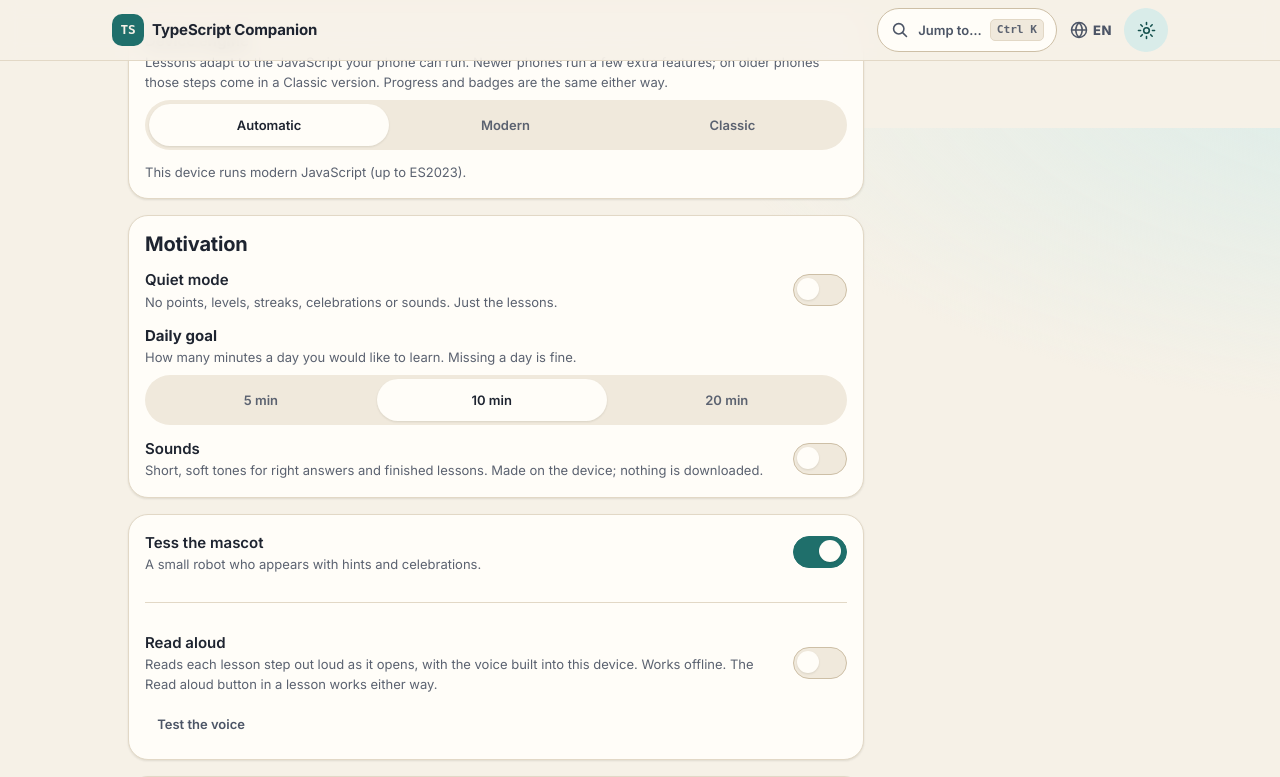
Settings → Motivation › sets the daily goal, and Quiet mode hides goal and sounds
The width and height of the screenshot is (1280, 777).
(page scrolled)
Click the radio button labelled "20 min".
click(727, 400)  # box [611,379,843,421]
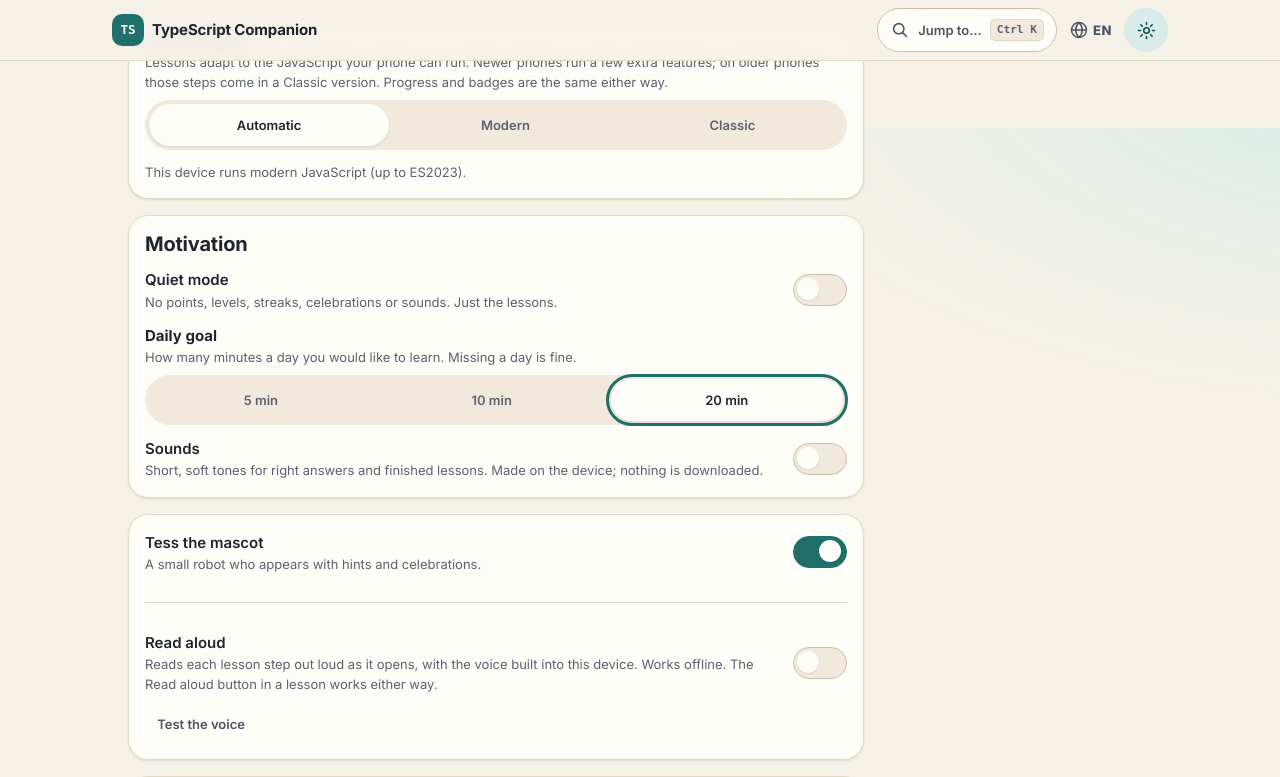
Click the switch named "Quiet mode".
click(820, 290)  # box [793,274,847,306]
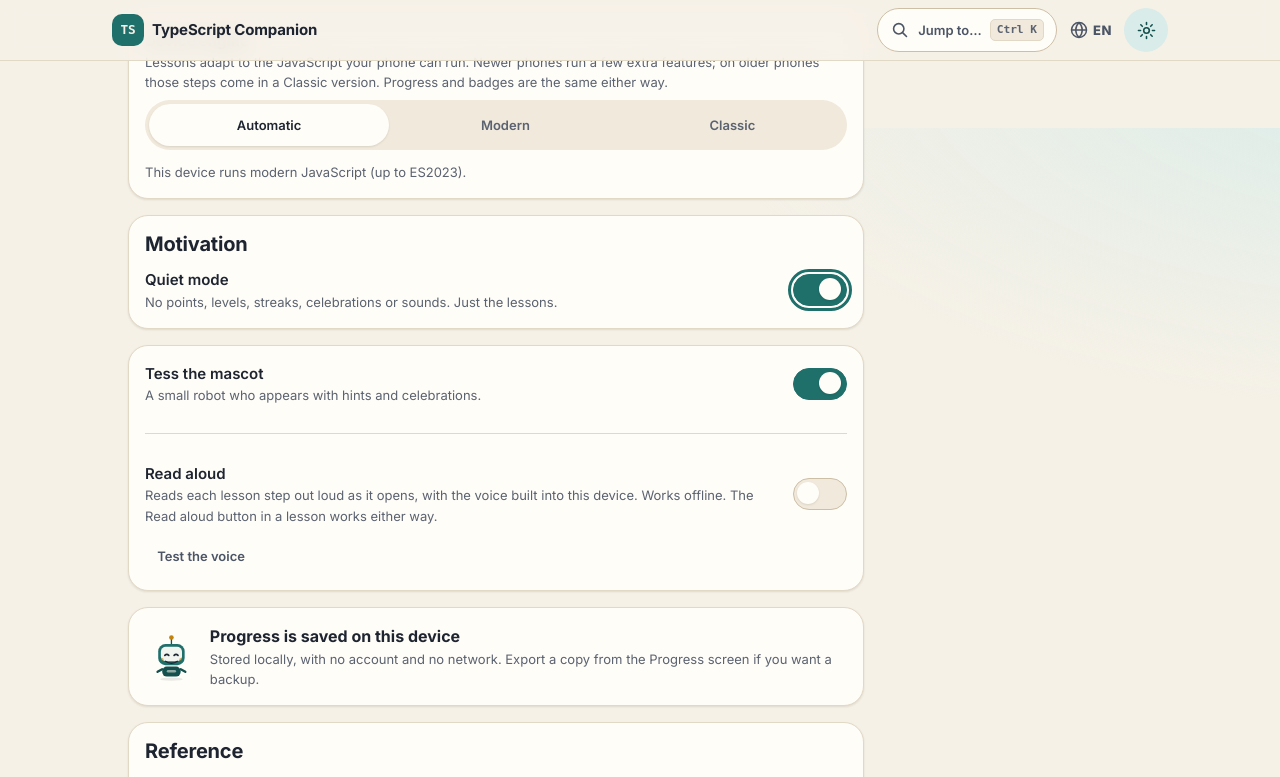
Result: the text "Daily goal" is gone
